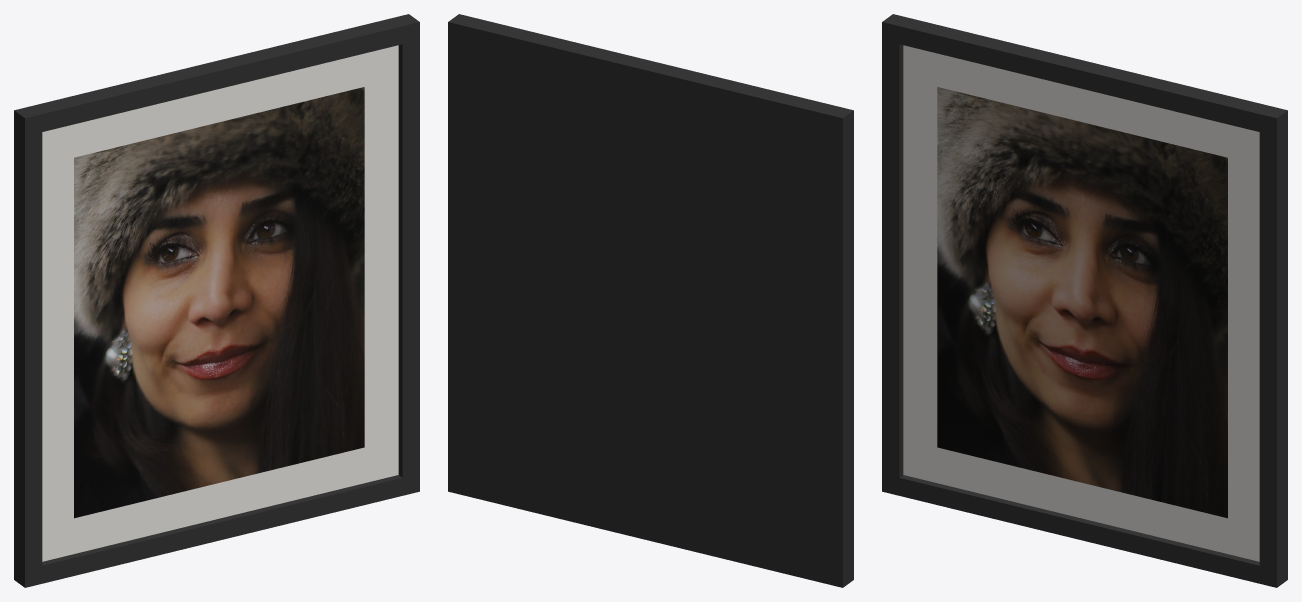
Rendered from azizam-40.gltf.
3 renders of one model, left to right at view 1: azimuth 30°, elevation 25°; view 2: azimuth 150°, elevation 25°; view 3: azimuth 330°, elevation 25°, orthographic.
Visible parts, largest first — view 1: tavla; view 2: tavla; view 3: tavla.
Boxes of the visible parts, left/top/right/bottom form: tavla: left=14, top=14, right=419, bottom=587; tavla: left=448, top=14, right=853, bottom=587; tavla: left=882, top=14, right=1287, bottom=587.
Bounding box in the file's own units: 0.4583 × 0.521 × 0.022.
Materials: 3 (1 with a texture image).
